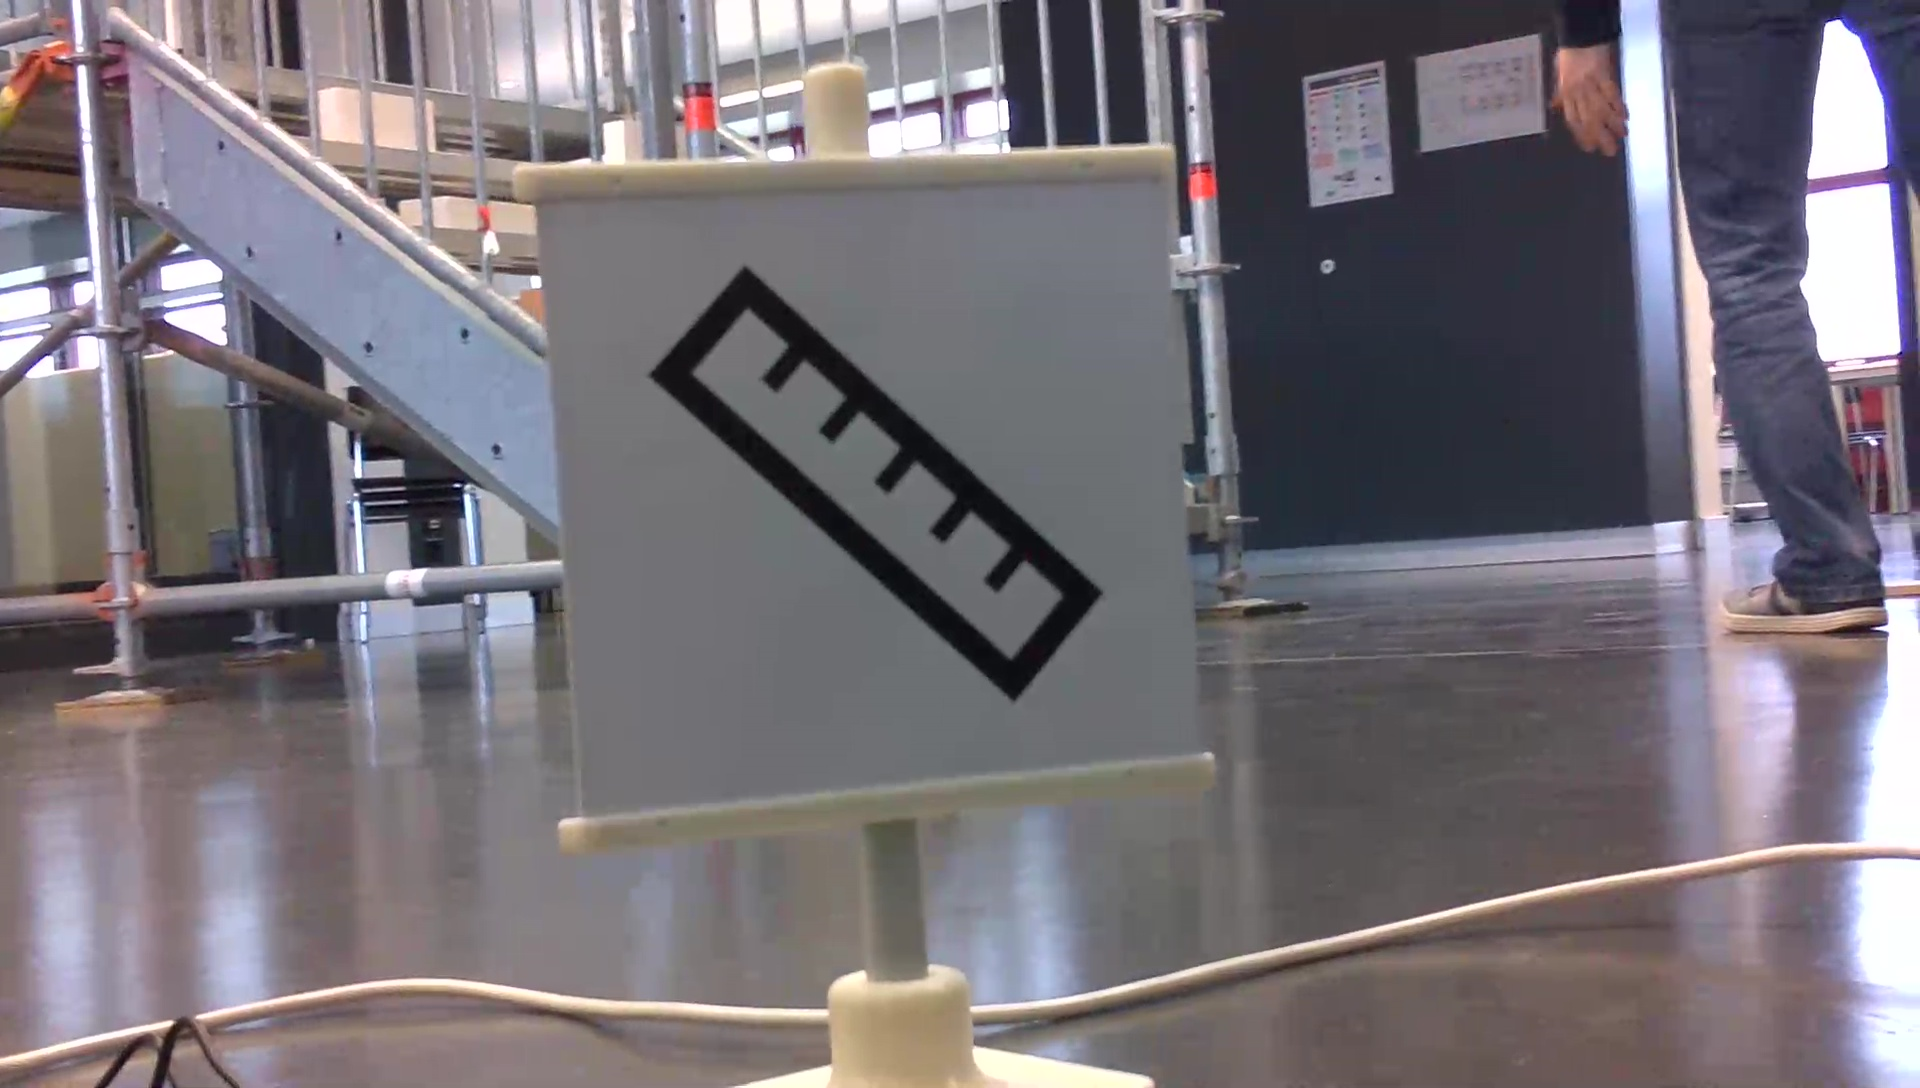ruler: (640, 255, 1113, 712)
